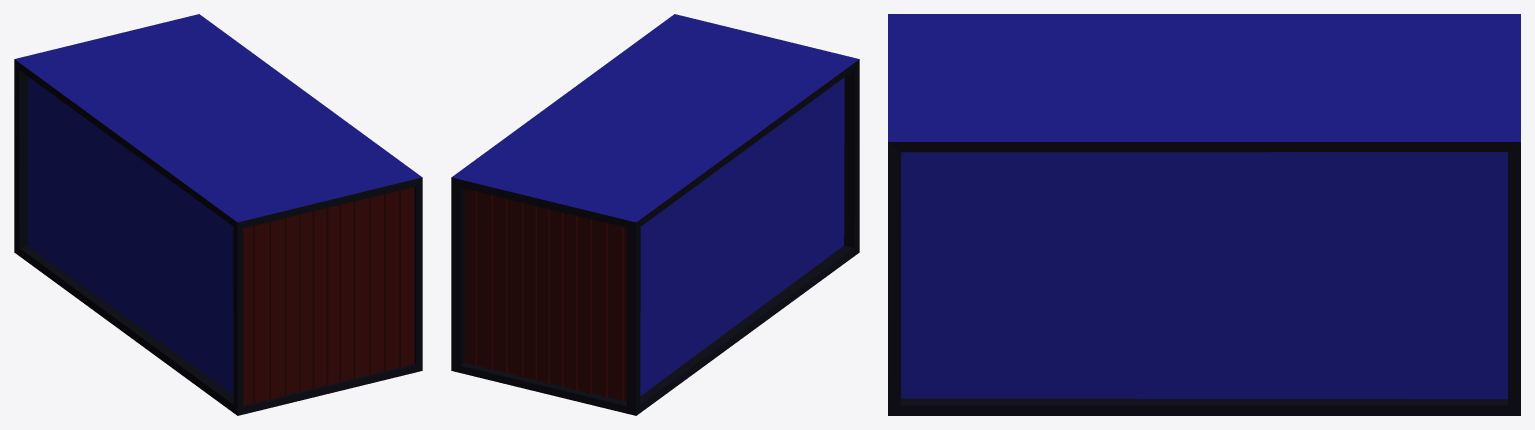
Rendered from jizhuangxiang.FBX.
3 renders of one model, left to right at view 1: azimuth 30°, elevation 25°; view 2: azimuth 150°, elevation 25°; view 3: azimuth 270°, elevation 25°, orthographic. The views are drawn at different scales.
Visible parts, largest first — view 1: jizhuangxiang; view 2: jizhuangxiang; view 3: jizhuangxiang.
Part boxes in pixels (x1,y1,x2,y2): jizhuangxiang: (14,14,422,415); jizhuangxiang: (451,14,859,415); jizhuangxiang: (888,14,1520,415).
Size of the model in its own units: 174 by 174 by 365.
